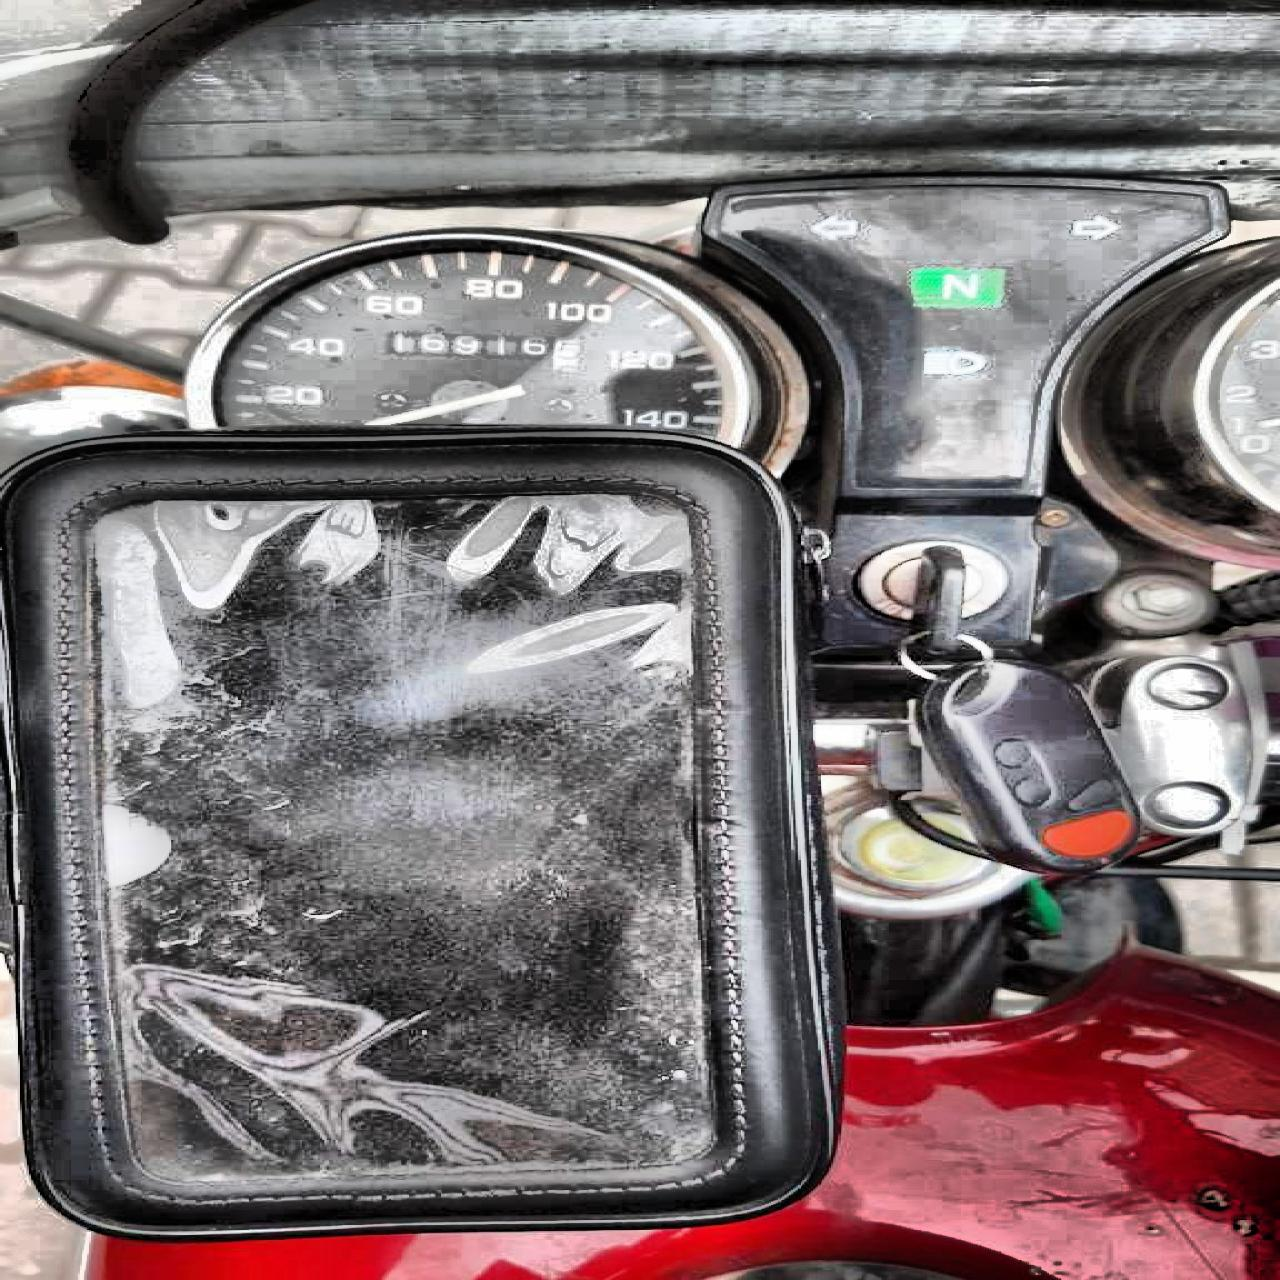1: (496, 334, 506, 358), (394, 331, 402, 350)
5: (553, 340, 580, 359)
6: (417, 331, 444, 350), (519, 335, 544, 355)
9: (451, 334, 478, 354)
odometer: (382, 328, 583, 373)
